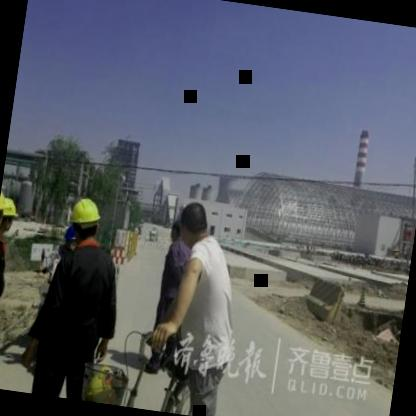head: (172, 194, 216, 250)
helmet: (66, 192, 104, 241), (0, 194, 20, 236)
